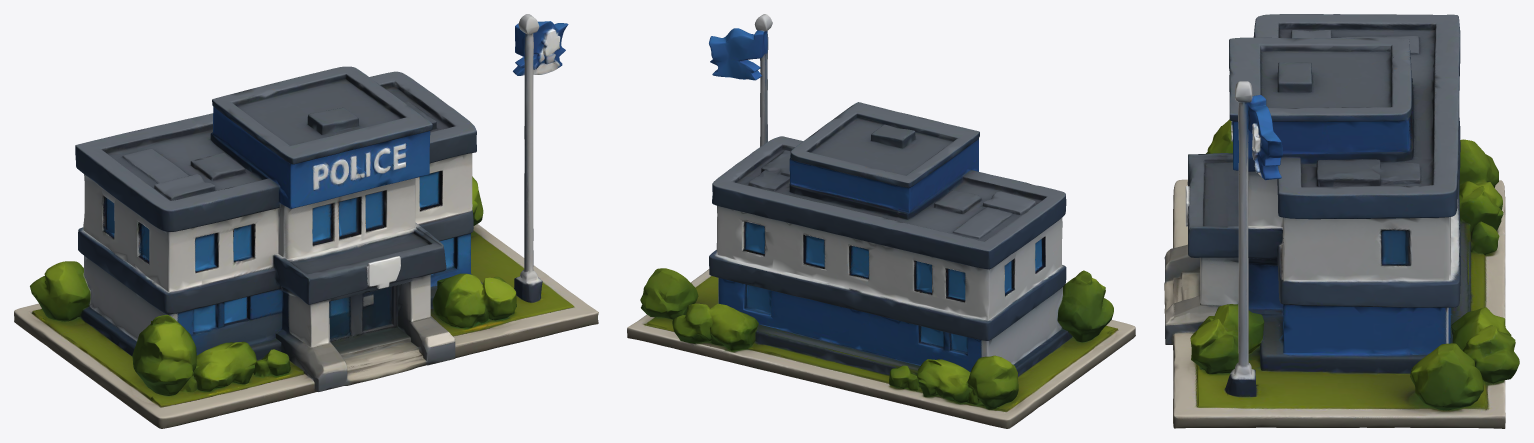
The model's file is police_station.glb.
3 views of the same model, side by side, from view 1: azimuth 30°, elevation 25°; view 2: azimuth 150°, elevation 25°; view 3: azimuth 270°, elevation 25° (orthographic). The views are drawn at different scales.
Visible parts, largest first — view 1: tripo_node_ce80f5c4-f8d2-4fa6-a5f8-33ff444b0474; view 2: tripo_node_ce80f5c4-f8d2-4fa6-a5f8-33ff444b0474; view 3: tripo_node_ce80f5c4-f8d2-4fa6-a5f8-33ff444b0474.
Boxes of the visible parts, left/top/right/bottom form: tripo_node_ce80f5c4-f8d2-4fa6-a5f8-33ff444b0474: left=14, top=14, right=598, bottom=428; tripo_node_ce80f5c4-f8d2-4fa6-a5f8-33ff444b0474: left=627, top=14, right=1135, bottom=428; tripo_node_ce80f5c4-f8d2-4fa6-a5f8-33ff444b0474: left=1164, top=14, right=1519, bottom=428.
Bounding box in the file's own units: 1 × 0.6257 × 0.6172.
Materials: 1 (1 with a texture image).
